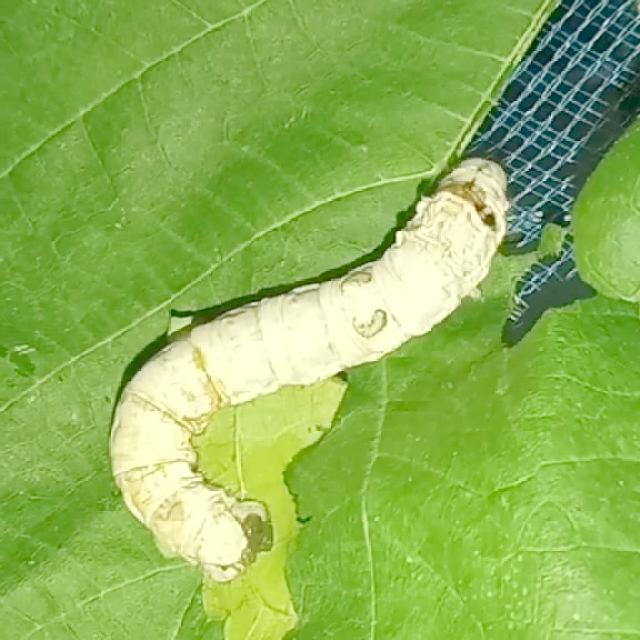Grasserie: (89, 135, 563, 597)
